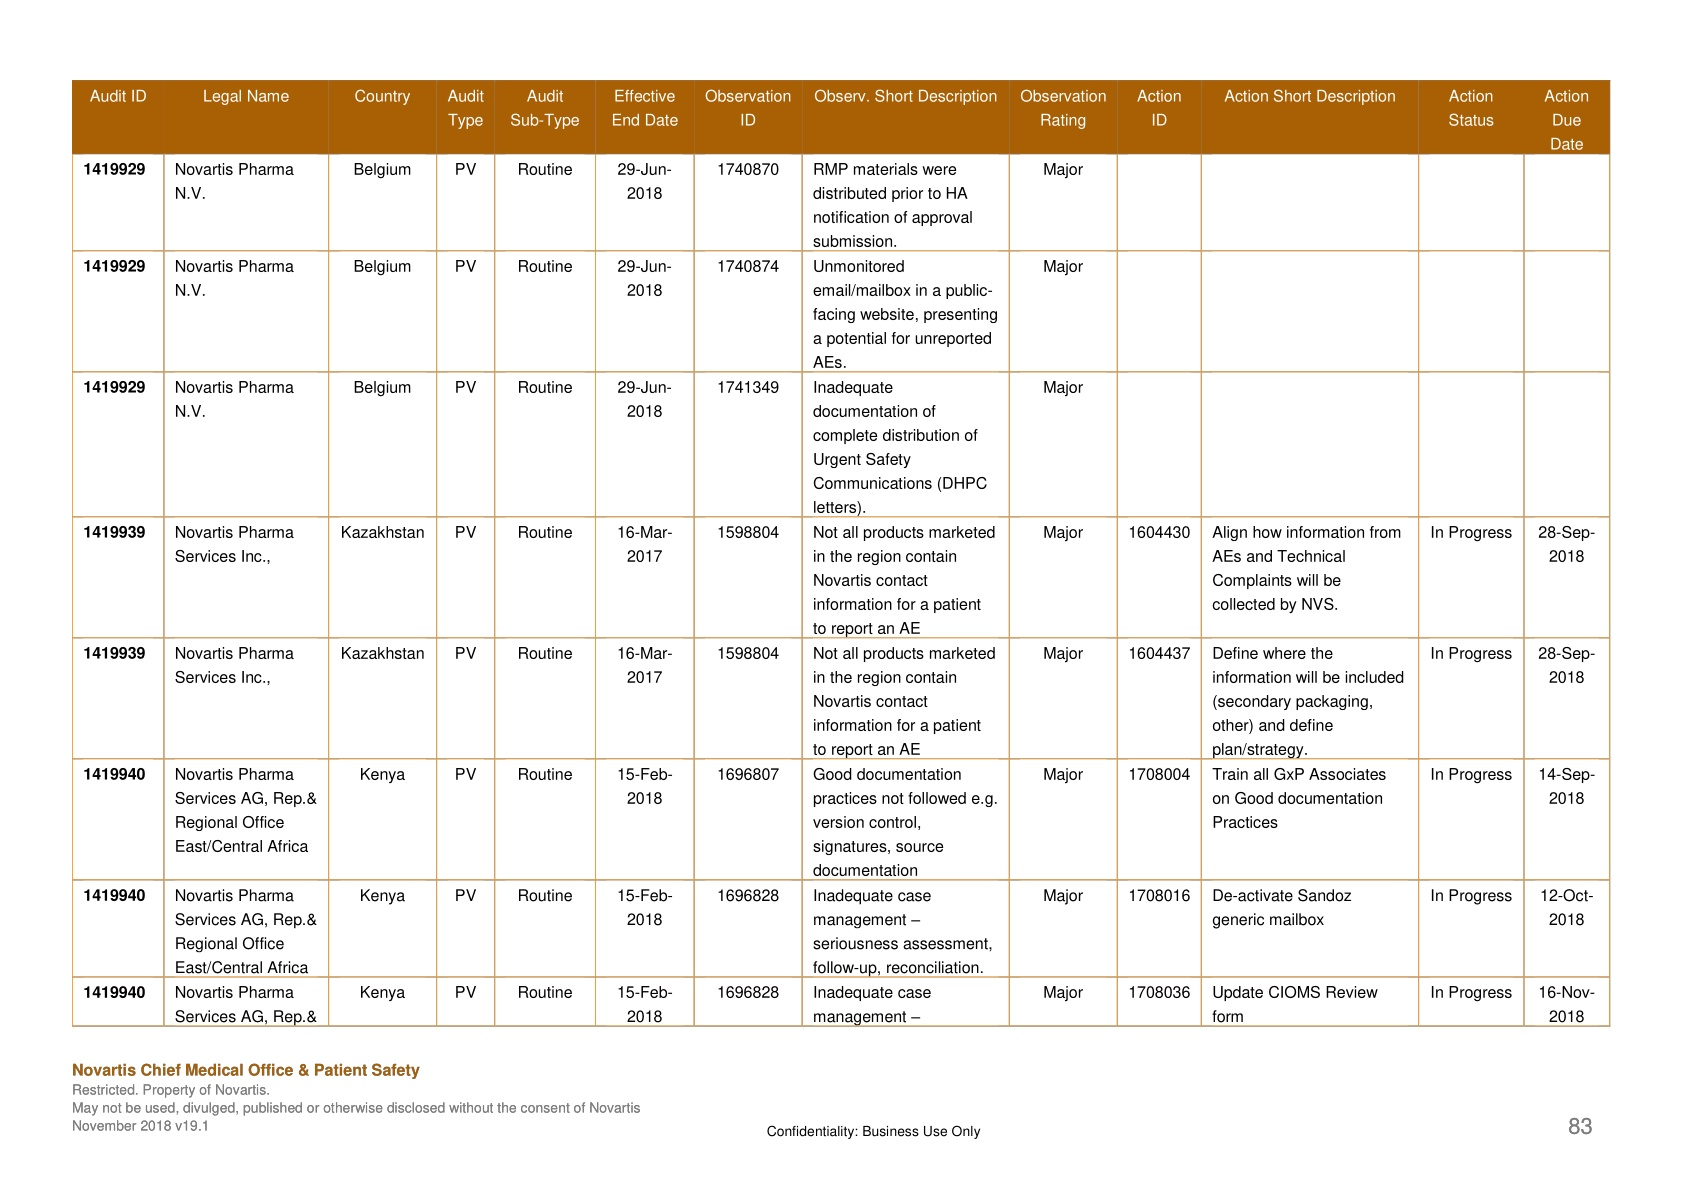full_lined: (72, 80, 1611, 1026)
